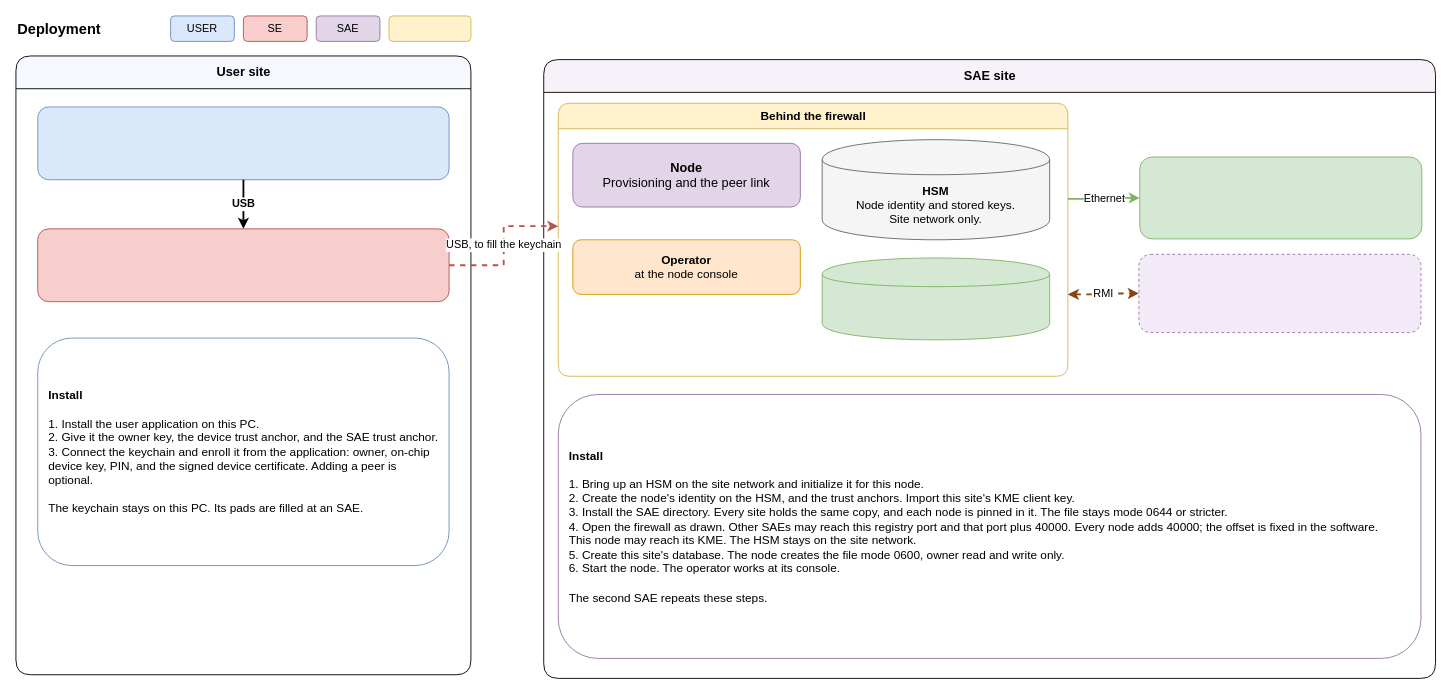
Image size: 1451x694. Some labels were removed from this diagram. Here are the shapes that lost their labels. From the top down, the centre of each, then its label:
At (429,28): "Firewall".
At (243,143): "User application Encrypt, decrypt, and manage on this PC".
At (1280,197): "KME This site's key source, on the internet".
At (243,265): "Keychain Enrolled from the user application. Stays at this site.".
At (935,298): "Database This site's records".
At (1279,293): "Second SAE The same design. Own identity, database, and KME.".
